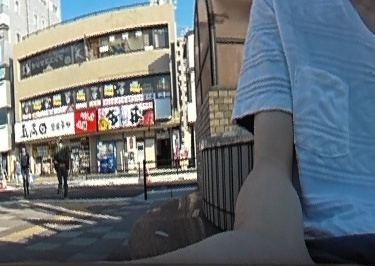person: (52, 137, 70, 194), (17, 140, 31, 194)
